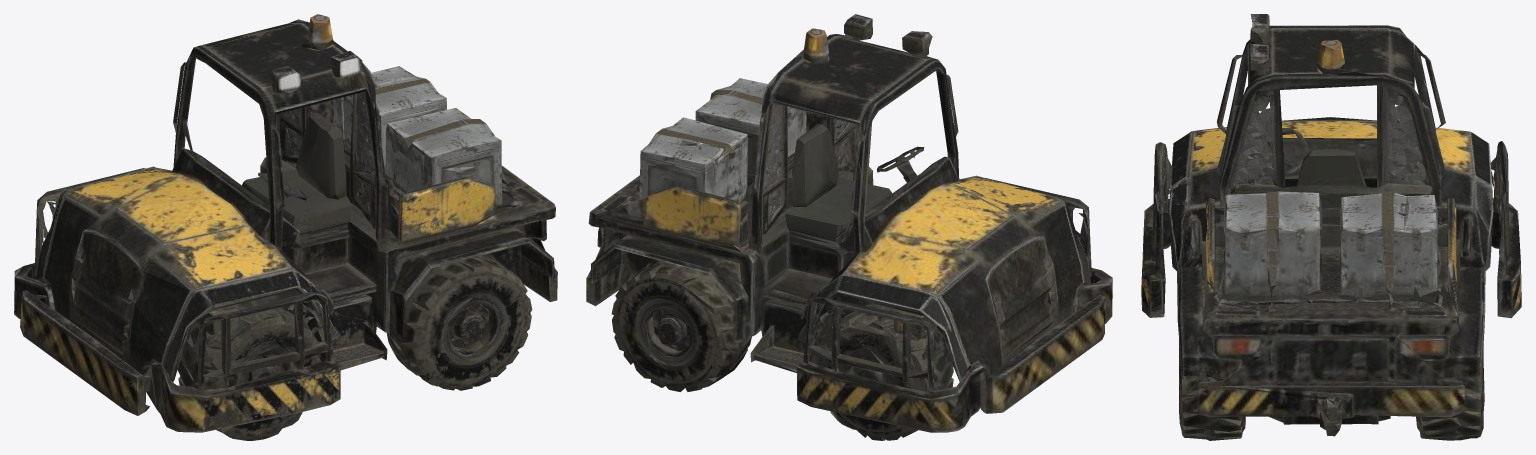
Rendered from ncz-cargo-loader.glb.
3 renders of one model, left to right at view 1: azimuth 30°, elevation 25°; view 2: azimuth 150°, elevation 25°; view 3: azimuth 270°, elevation 25°, orthographic. The views are drawn at different scales.
Visible parts, largest first — view 1: output_unwrapped; view 2: output_unwrapped; view 3: output_unwrapped.
Part boxes in pixels (x1,y1,x2,y2): output_unwrapped: (14,14,557,440); output_unwrapped: (586,14,1112,440); output_unwrapped: (1141,14,1521,440).
Bounding box in the file's own units: 1.89 × 1.38 × 1.35.
1 material, 1 textured.
